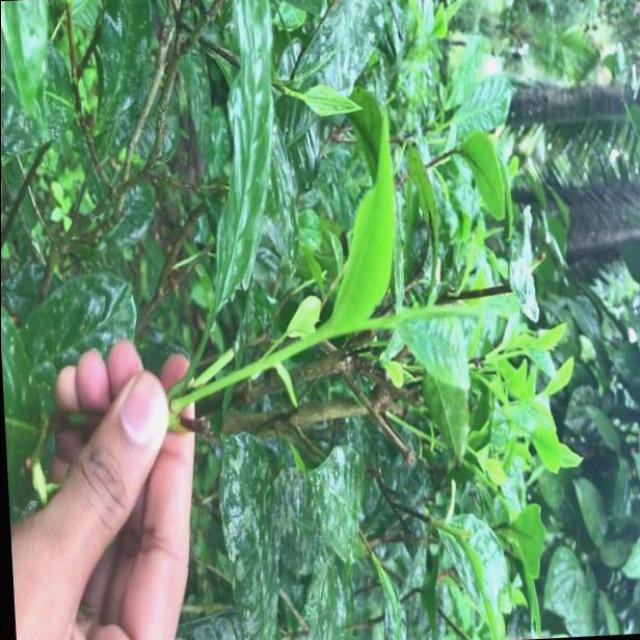Stem: (278, 327, 327, 362), (433, 519, 456, 535)
